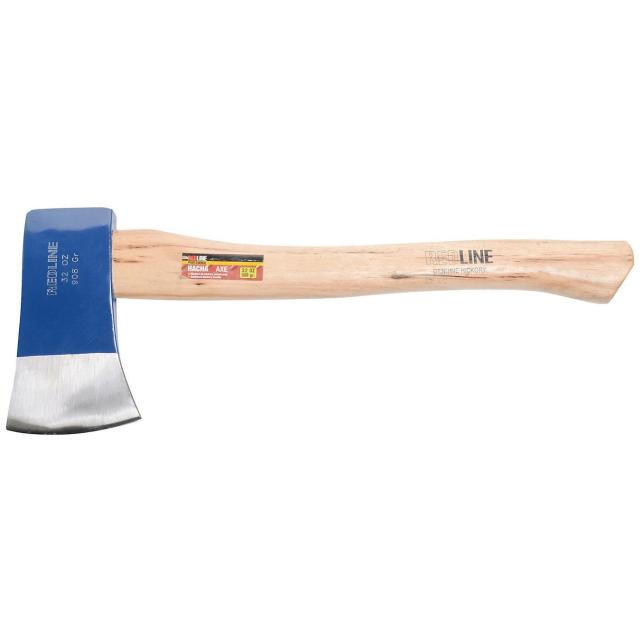Kapak: (11, 195, 640, 448)
